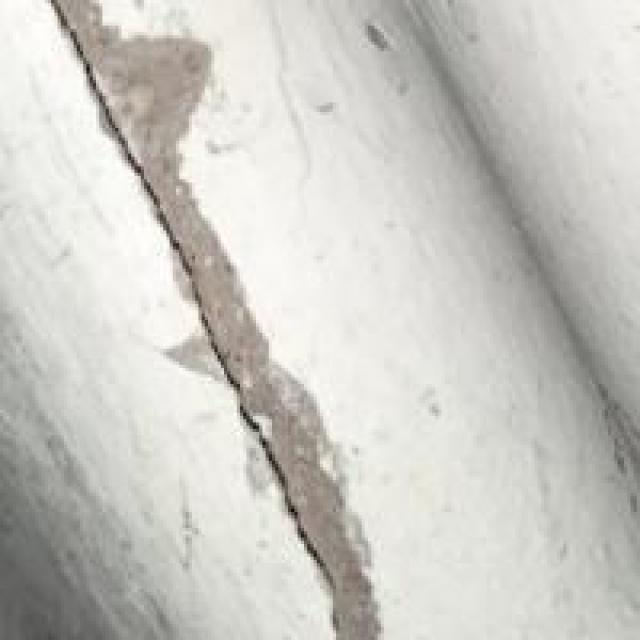Crack: (32, 6, 362, 636)
